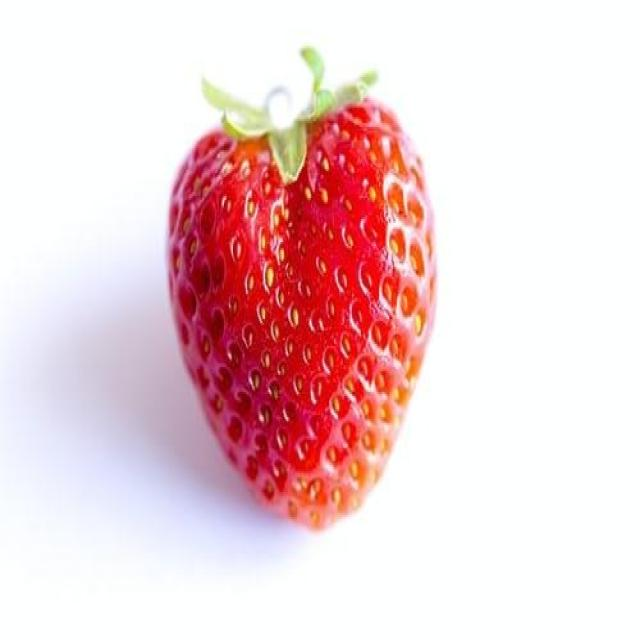mature: (164, 100, 438, 534)
